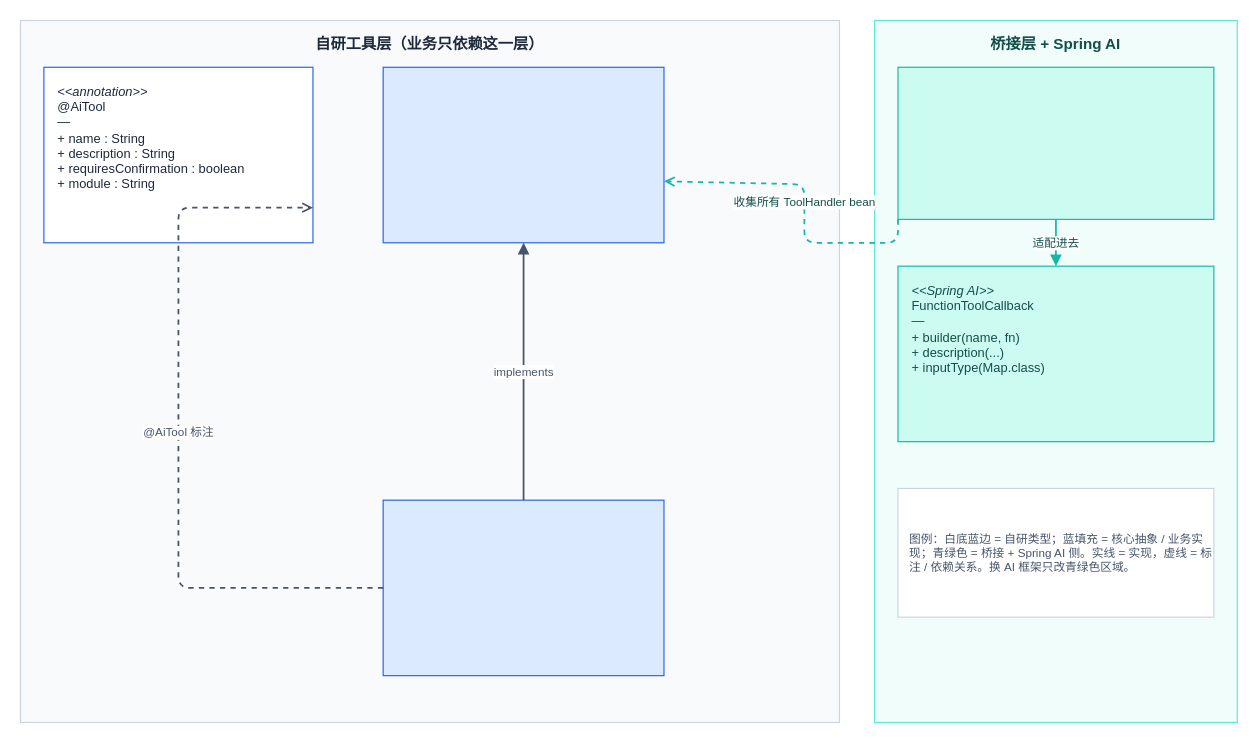
Image size: 1258x743. Some labels were removed from this diagram. The shapes that lost their labels are listed below. From the top down, each one's centre as x and y in pixels, then its label:
At pixel 523 154: "<<interface>> ToolHandler — + execute(args, ctx) : ToolResult".
At pixel 1055 142: "AiToolBridgeConfig — + bridge() : FunctionToolCallback".
At pixel 523 587: "OrderQueryTool （业务工具实现） — + execute(args, ctx) : 按 ctx 做租户隔离".
